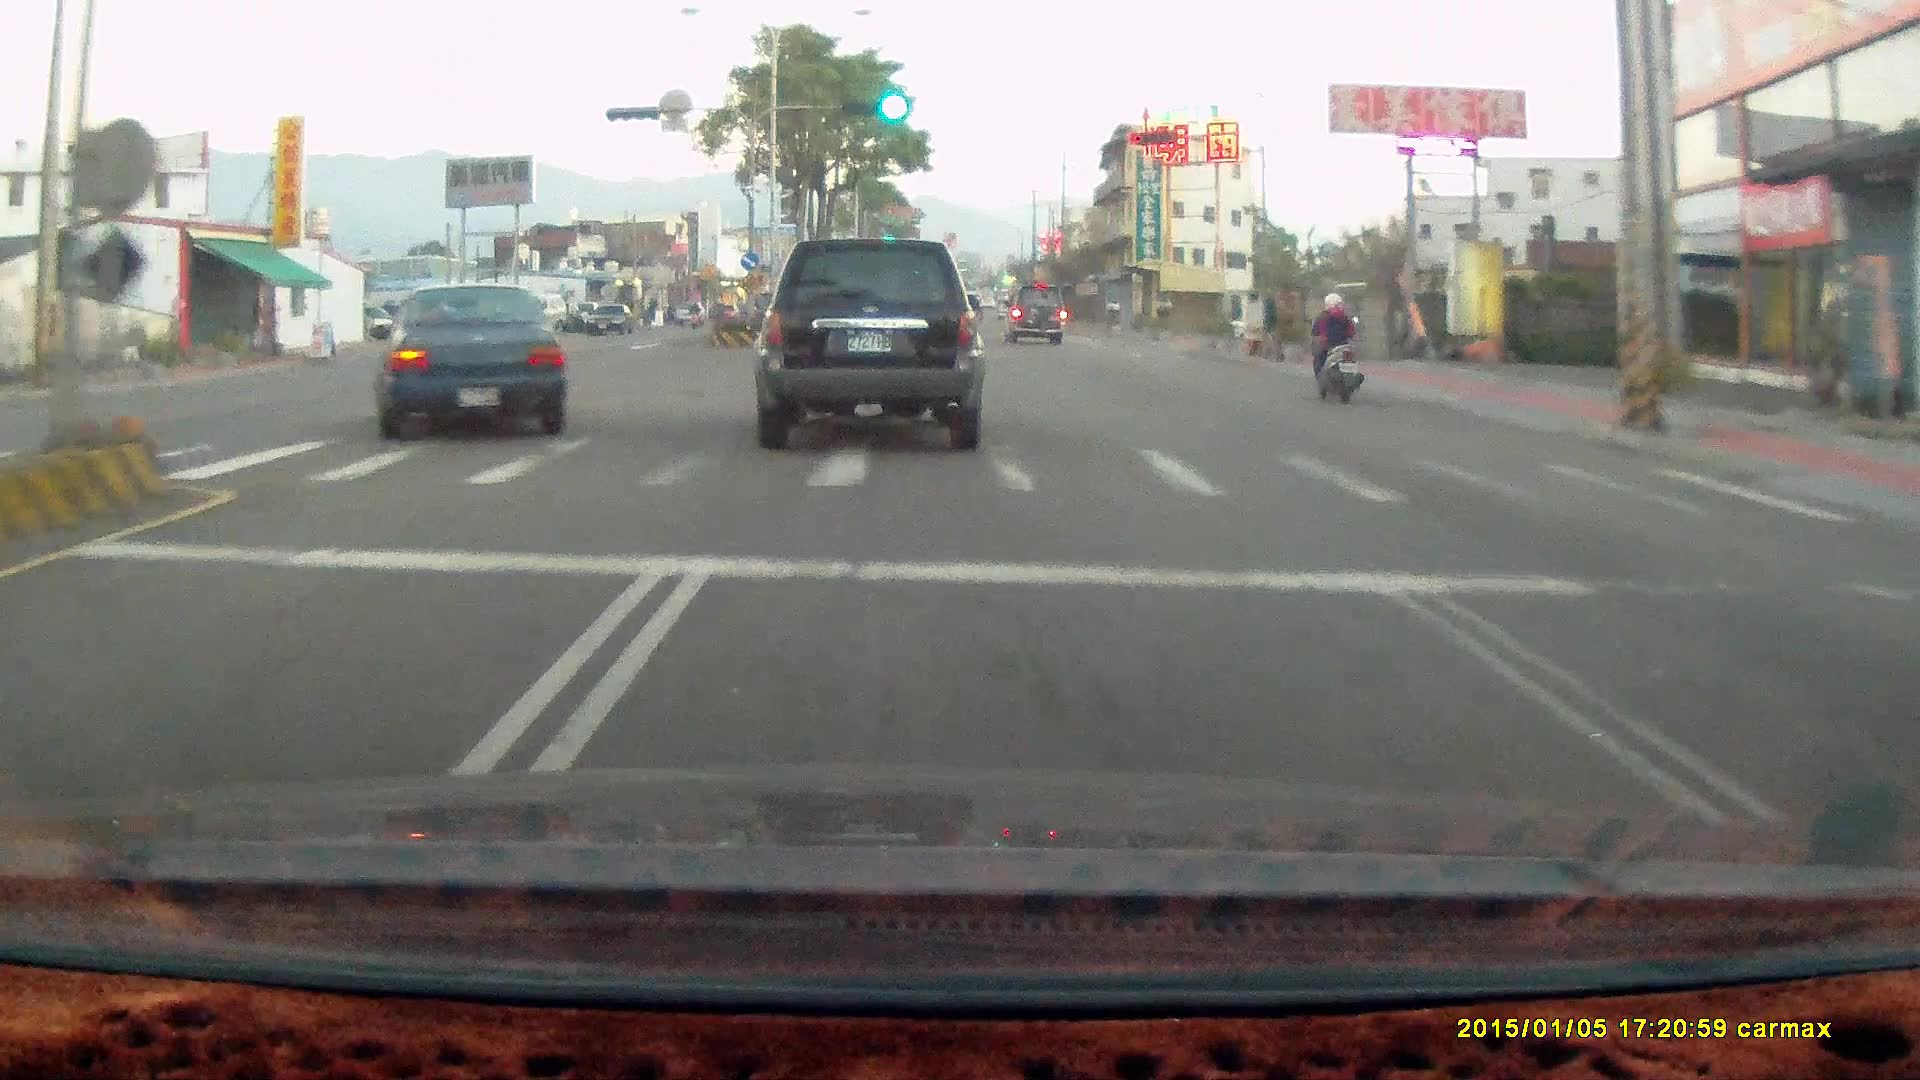rider: (1295, 280, 1375, 412), (1305, 288, 1364, 404)
vehicle: (758, 243, 988, 456), (753, 238, 982, 450), (370, 279, 566, 441), (376, 279, 567, 443), (1004, 285, 1071, 352), (1001, 283, 1065, 344), (498, 293, 569, 335), (583, 301, 634, 335)
